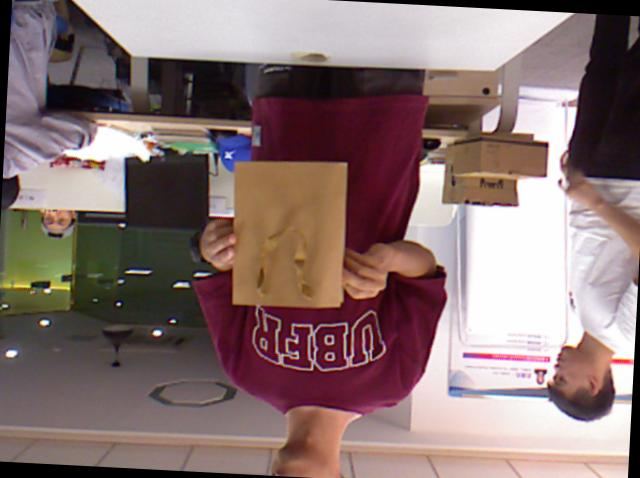cardboard paper: (235, 163, 349, 309), (446, 134, 549, 177), (425, 71, 500, 129), (446, 167, 517, 206)
